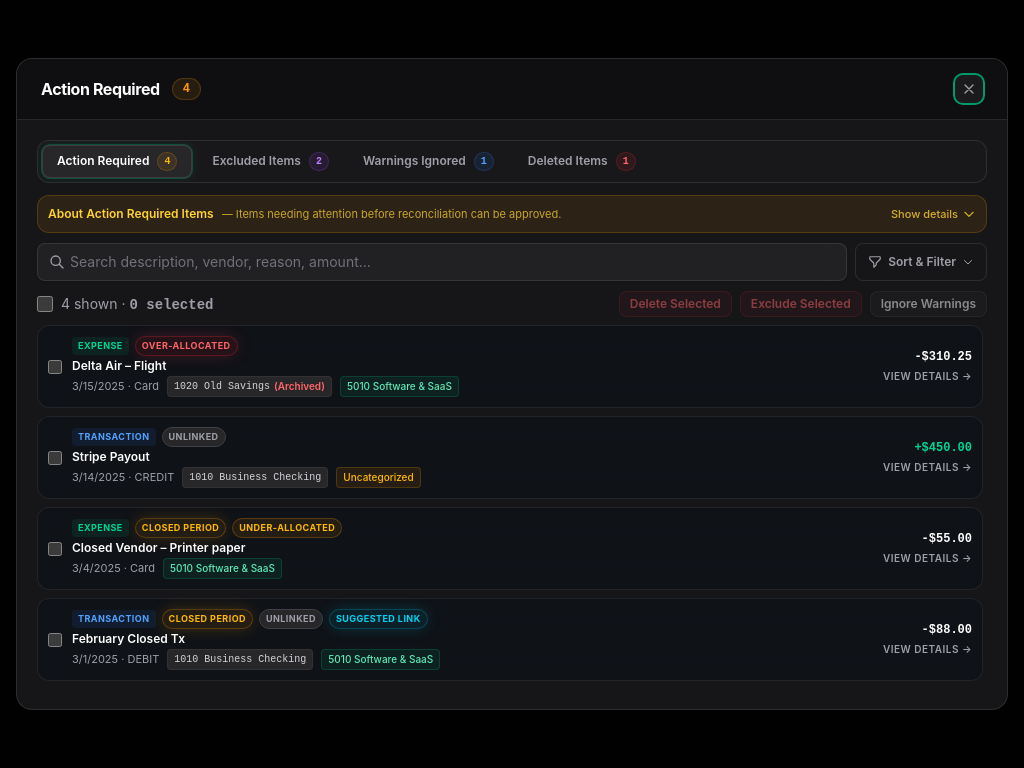
Test: ReviewModal › loads pending closed-period & flagged items, normalizes status badges, and toggles banner details
Expected: the text "February Closed Tx" is shown, [72,631,185,646]
Expected: the text "Closed Vendor – Printer paper" is shown, [72,540,246,555]
Step 1. Click the button "About Action Required Items" → [512, 214], box [48,206,976,222]
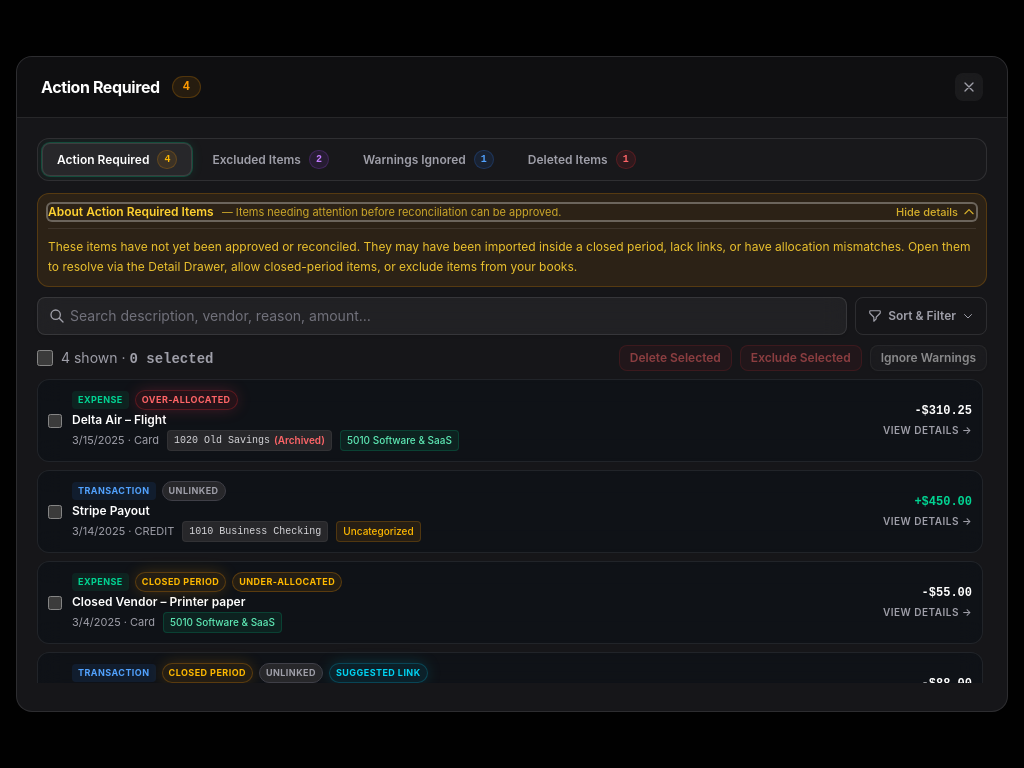
Result: the button "About Action Required Items" is expanded at [48,204,976,220]
Result: the text "These items have not yet been approved" is shown at [48,239,970,274]
